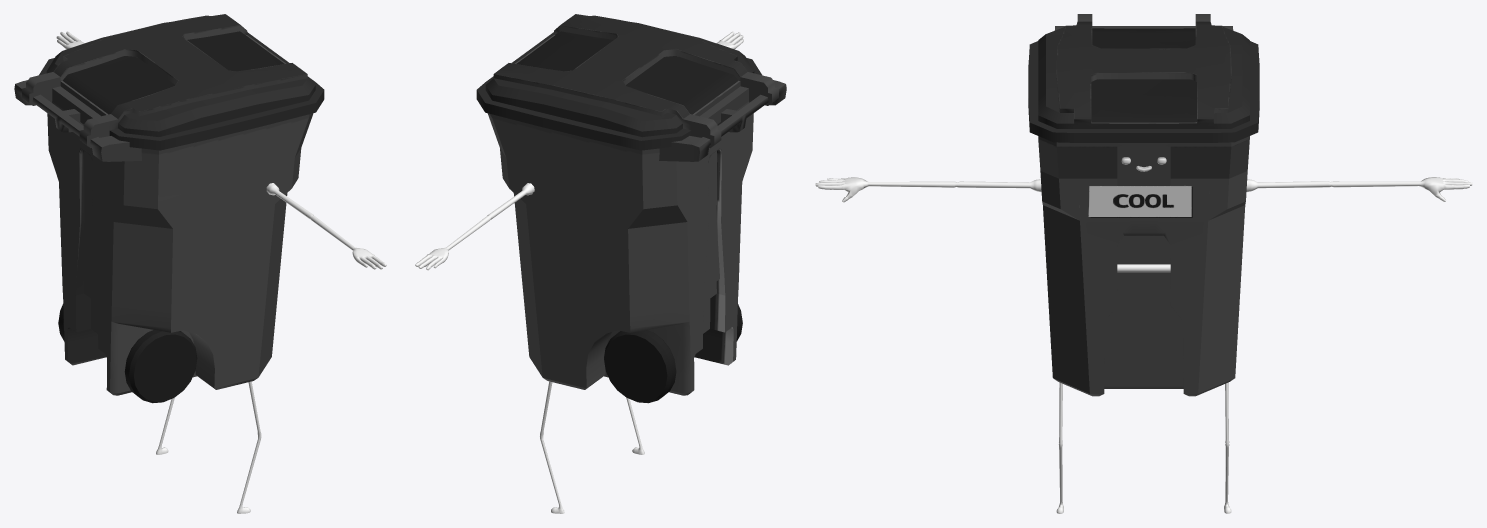
File: Trash Bin Character.glb
3 views of the same model, side by side, from view 1: azimuth 30°, elevation 25°; view 2: azimuth 150°, elevation 25°; view 3: azimuth 270°, elevation 25° (orthographic). The views are drawn at different scales.
Parts seen in each view (by area): view 1: _100Avatars_146_CoolTrash; view 2: _100Avatars_146_CoolTrash; view 3: _100Avatars_146_CoolTrash.
Boxes of the visible parts, x1,y1,x2,y2 form: _100Avatars_146_CoolTrash: (14,14,386,513); _100Avatars_146_CoolTrash: (415,14,786,513); _100Avatars_146_CoolTrash: (815,14,1472,513).
Size of the model in its own units: 2.72 by 4.9 by 6.64.
Materials: 1 (1 with a texture image).
